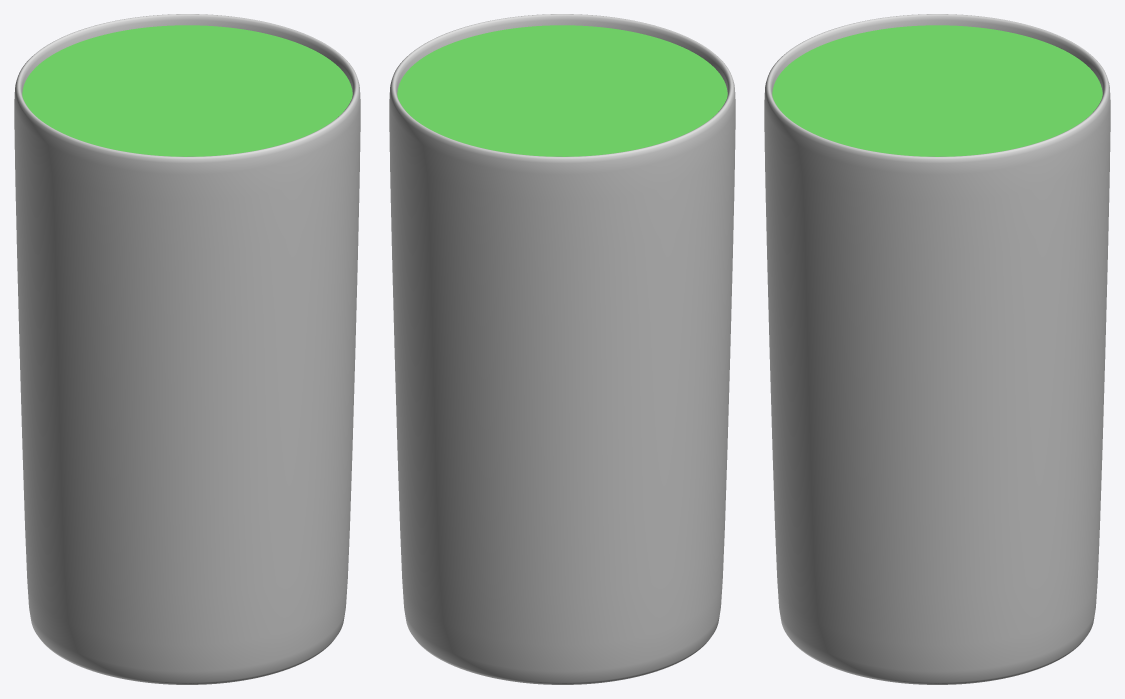
The model's file is Bebida_verde.fbx.
The picture shows the model from 3 angles, left to right: view 1: azimuth 30°, elevation 25°; view 2: azimuth 150°, elevation 25°; view 3: azimuth 270°, elevation 25°; orthographic projection.
Parts seen in each view (by area): view 1: vaso, Círculo; view 2: vaso, Círculo; view 3: vaso, Círculo.
Boxes of the visible parts, x1,y1,x2,y2 form: vaso: [14, 14, 360, 684]; Círculo: [22, 25, 352, 156]; vaso: [389, 14, 735, 684]; Círculo: [397, 25, 727, 156]; vaso: [764, 14, 1110, 684]; Círculo: [772, 25, 1102, 156].
Size of the model in its own units: 216 by 369 by 216.
